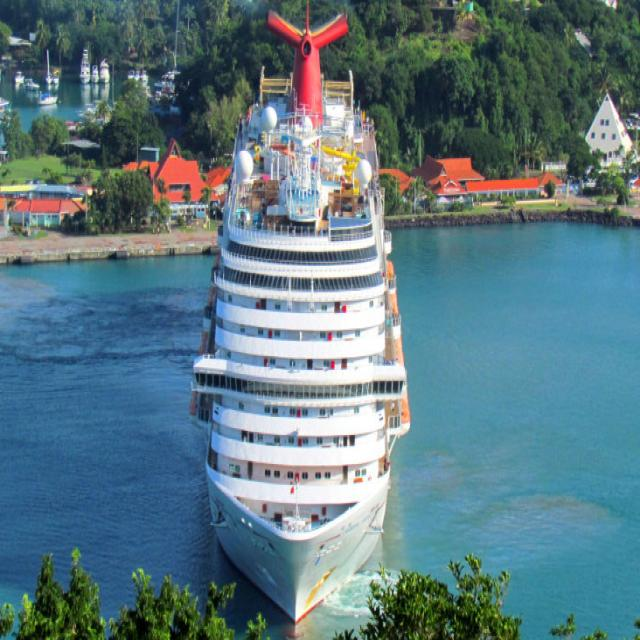cruises: (185, 1, 416, 638)
